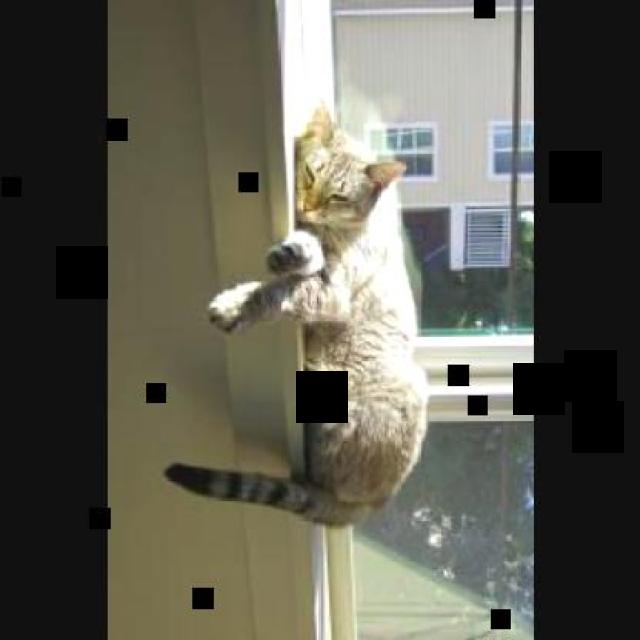unauthorized: (163, 102, 429, 526)
